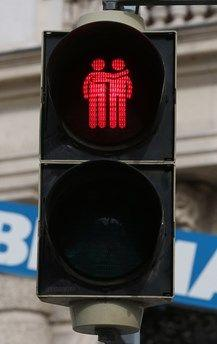red: (26, 18, 177, 302)
